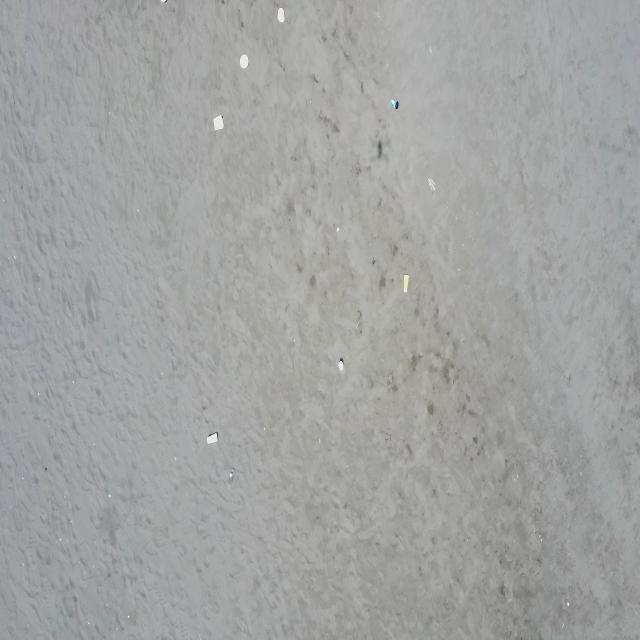take-away-containers: (239, 53, 250, 71), (213, 115, 224, 132), (277, 6, 285, 24)
takeaway-cup: (427, 176, 437, 193), (228, 468, 236, 486), (403, 274, 410, 294), (207, 432, 219, 443), (390, 98, 399, 110), (338, 359, 344, 372)
